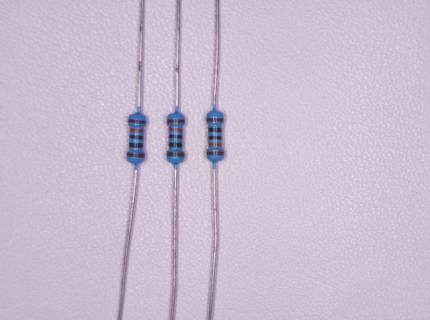Black band: (129, 142, 143, 148), (169, 134, 183, 140), (208, 127, 222, 132), (169, 142, 183, 147), (129, 135, 143, 140), (208, 136, 222, 140)
Brown band: (127, 152, 145, 157), (128, 119, 146, 124), (167, 152, 184, 157), (206, 151, 224, 155), (167, 119, 185, 123), (206, 118, 224, 122)
Orange band: (169, 127, 183, 132), (208, 142, 222, 147), (130, 128, 144, 132)
